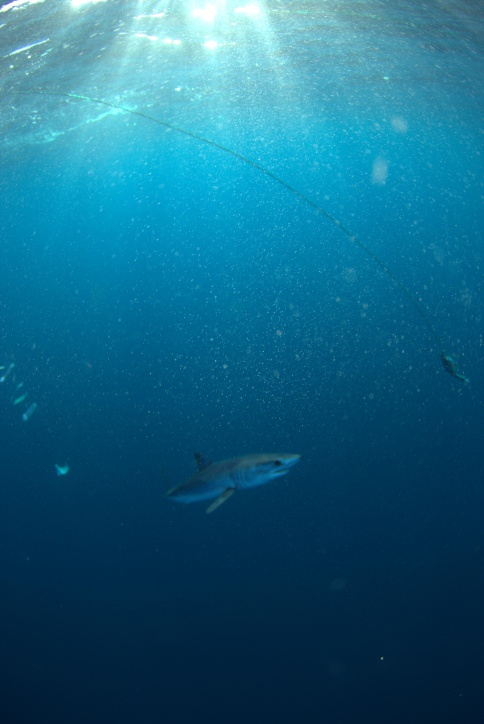Mako: (143, 428, 316, 539)
